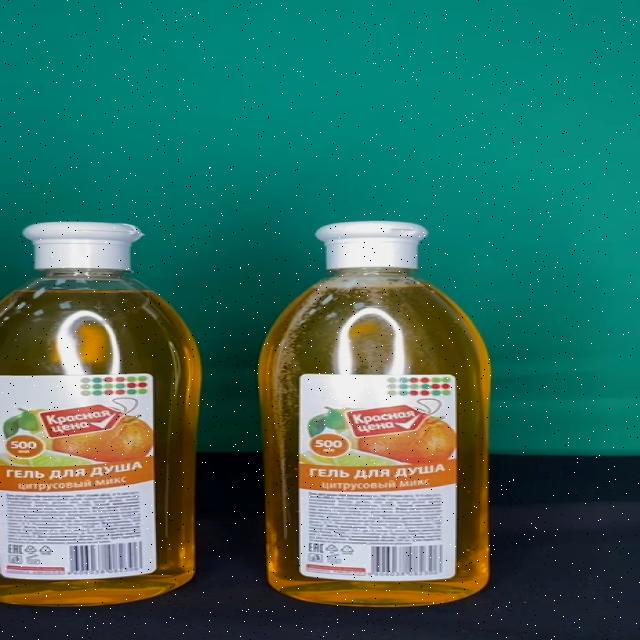Bottle: (260, 221, 492, 608), (0, 220, 205, 608)
Cap: (23, 222, 143, 270), (314, 222, 428, 269)
